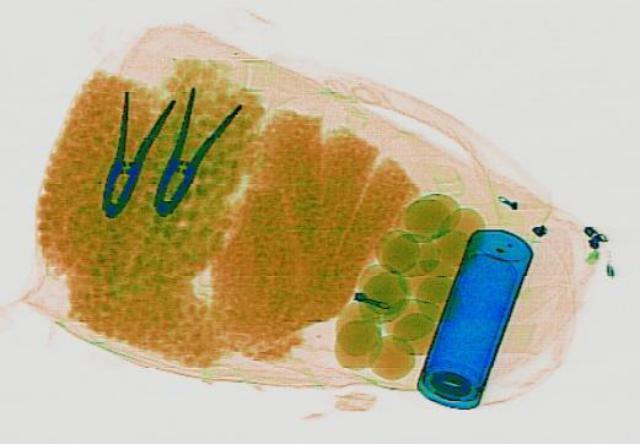Pliers: (128, 83, 245, 218), (80, 89, 176, 220)
